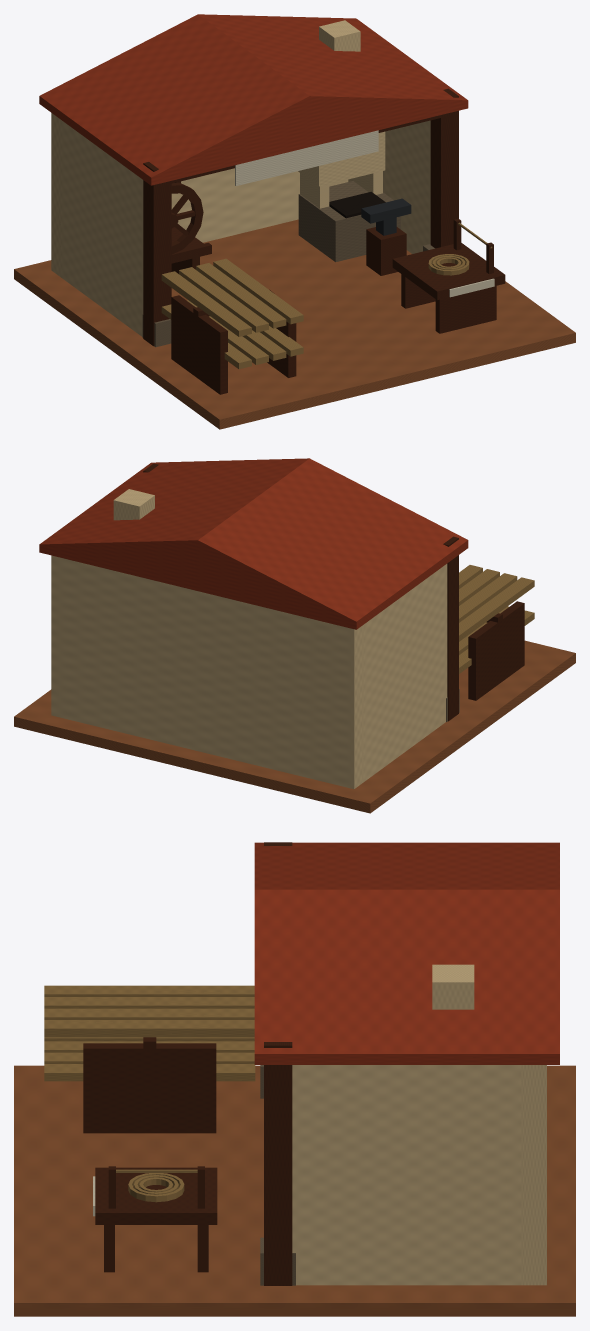
The model's file is Berber_Siege_Age4.fbx.
3 views of the same model, one above another, from view 1: azimuth 30°, elevation 25°; view 2: azimuth 150°, elevation 25°; view 3: azimuth 270°, elevation 25° (orthographic). The views are drawn at different scales.
Visible parts, largest first — view 1: pitched_engineering_shelter, yard_foundation, west_hall_wall, rear_engineering_wall, east_hall_wall, west_portal_pier, timber_rack_leg, forge_hearth, east_portal_pier, portal_owner_neutral_stripe, rope_bench, rope_bench_trestle (+17 smaller); view 2: rear_engineering_wall, pitched_engineering_shelter, yard_foundation, west_hall_wall, timber_rack_leg, west_portal_pier, seasoned_lumber.004, forge_chimney, seasoned_lumber.005, seasoned_lumber.006; view 3: pitched_engineering_shelter, yard_foundation, east_hall_wall, timber_rack_leg.001, east_portal_pier, rear_engineering_wall, rope_bench, seasoned_lumber.007, seasoned_lumber.004, seasoned_lumber.005, seasoned_lumber.006, forge_chimney (+5 smaller).
Boxes of the visible parts, x1=… form: pitched_engineering_shelter: x1=39, y1=14, x2=468, y2=185; yard_foundation: x1=14, y1=219, x2=575, y2=429; west_hall_wall: x1=60, y1=120, x2=143, y2=336; rear_engineering_wall: x1=51, y1=113, x2=348, y2=276; east_hall_wall: x1=348, y1=120, x2=430, y2=253; west_portal_pier: x1=143, y1=180, x2=171, y2=346; timber_rack_leg: x1=171, y1=295, x2=227, y2=394; forge_hearth: x1=298, y1=181, x2=400, y2=262; east_portal_pier: x1=430, y1=110, x2=458, y2=248; portal_owner_neutral_stripe: x1=235, y1=130, x2=378, y2=185; rope_bench: x1=392, y1=243, x2=505, y2=300; rope_bench_trestle: x1=435, y1=286, x2=496, y2=333; rear_engineering_wall: x1=51, y1=555, x2=363, y2=788; pitched_engineering_shelter: x1=39, y1=458, x2=468, y2=629; yard_foundation: x1=14, y1=640, x2=575, y2=813; west_hall_wall: x1=363, y1=564, x2=447, y2=782; timber_rack_leg: x1=468, y1=601, x2=524, y2=700; west_portal_pier: x1=447, y1=555, x2=458, y2=721; seasoned_lumber.004: x1=459, y1=577, x2=534, y2=641; forge_chimney: x1=113, y1=489, x2=154, y2=520; seasoned_lumber.005: x1=459, y1=573, x2=517, y2=622; seasoned_lumber.006: x1=459, y1=569, x2=499, y2=605; pitched_engineering_shelter: x1=254, y1=842, x2=559, y2=1064; yard_foundation: x1=14, y1=1065, x2=575, y2=1316; east_hall_wall: x1=292, y1=1065, x2=521, y2=1285; timber_rack_leg.001: x1=83, y1=1043, x2=216, y2=1133; east_portal_pier: x1=264, y1=1065, x2=292, y2=1285; rear_engineering_wall: x1=520, y1=1065, x2=546, y2=1285; rope_bench: x1=95, y1=1167, x2=217, y2=1224; seasoned_lumber.007: x1=44, y1=1020, x2=254, y2=1037; seasoned_lumber.004: x1=44, y1=985, x2=254, y2=996; seasoned_lumber.005: x1=44, y1=997, x2=254, y2=1008; seasoned_lumber.006: x1=44, y1=1008, x2=254, y2=1019; forge_chimney: x1=432, y1=964, x2=474, y2=1009.
Bounding box in the file's own units: 600 × 363 × 600.
Materials: 9 (9 with a texture image).
